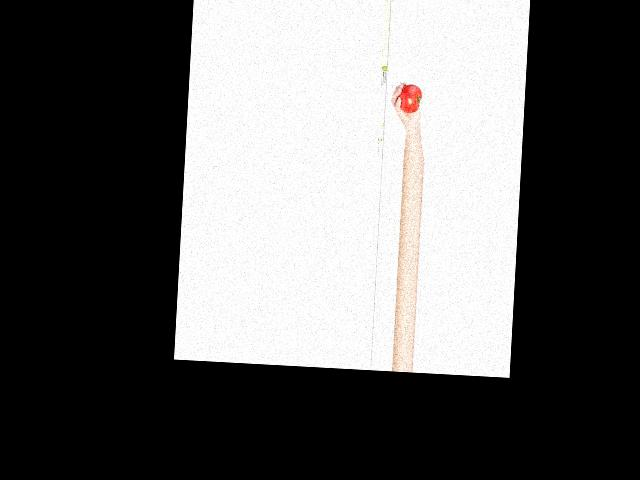tomato: (397, 84, 422, 114)
